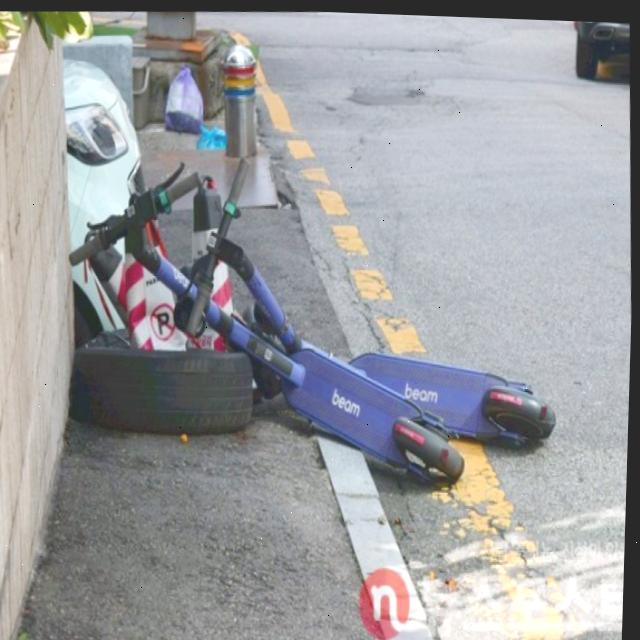kickboard_no: (265, 322, 468, 500)
